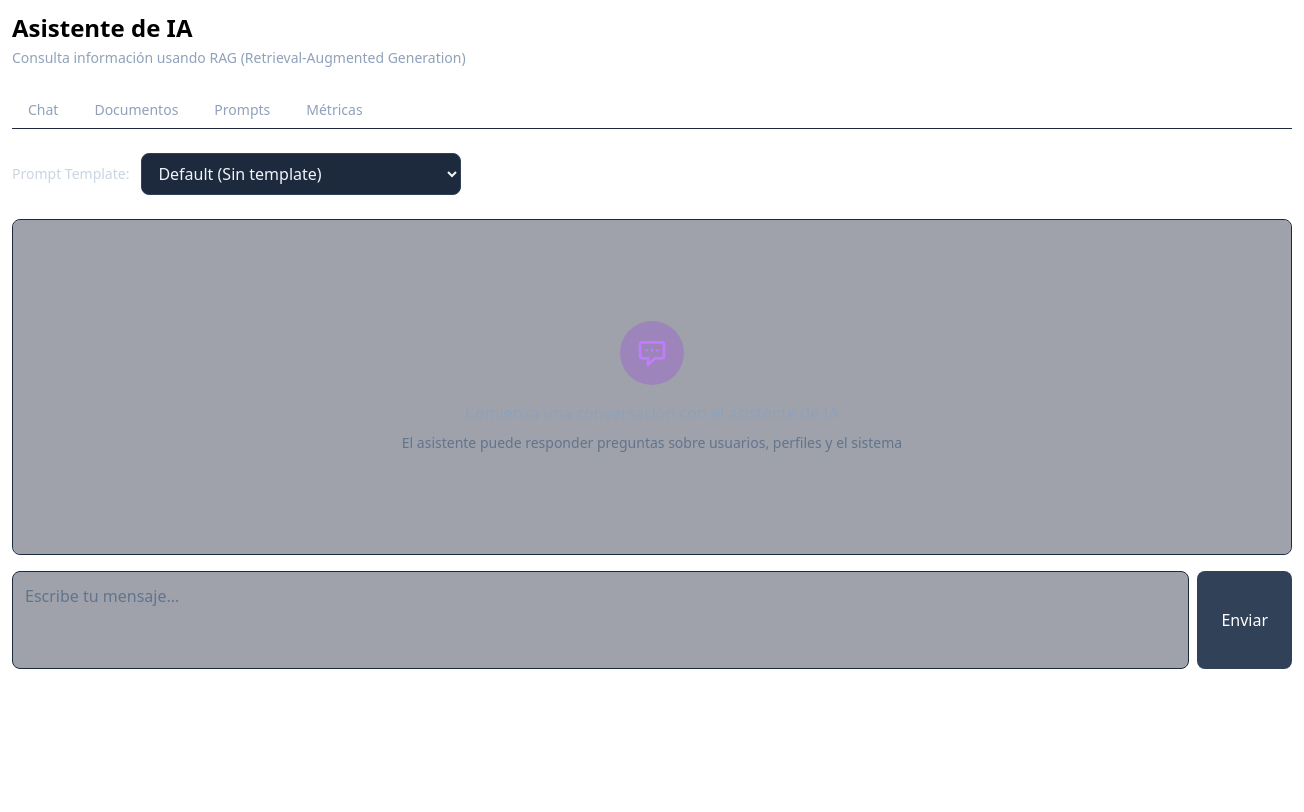
Scenario: AIPage › debe mostrar error cuando falla el envío del mensaje
Type "Test message" into the text box with placeholder "Escribe tu mensaje..." at (601, 620), box [12, 571, 1189, 669]
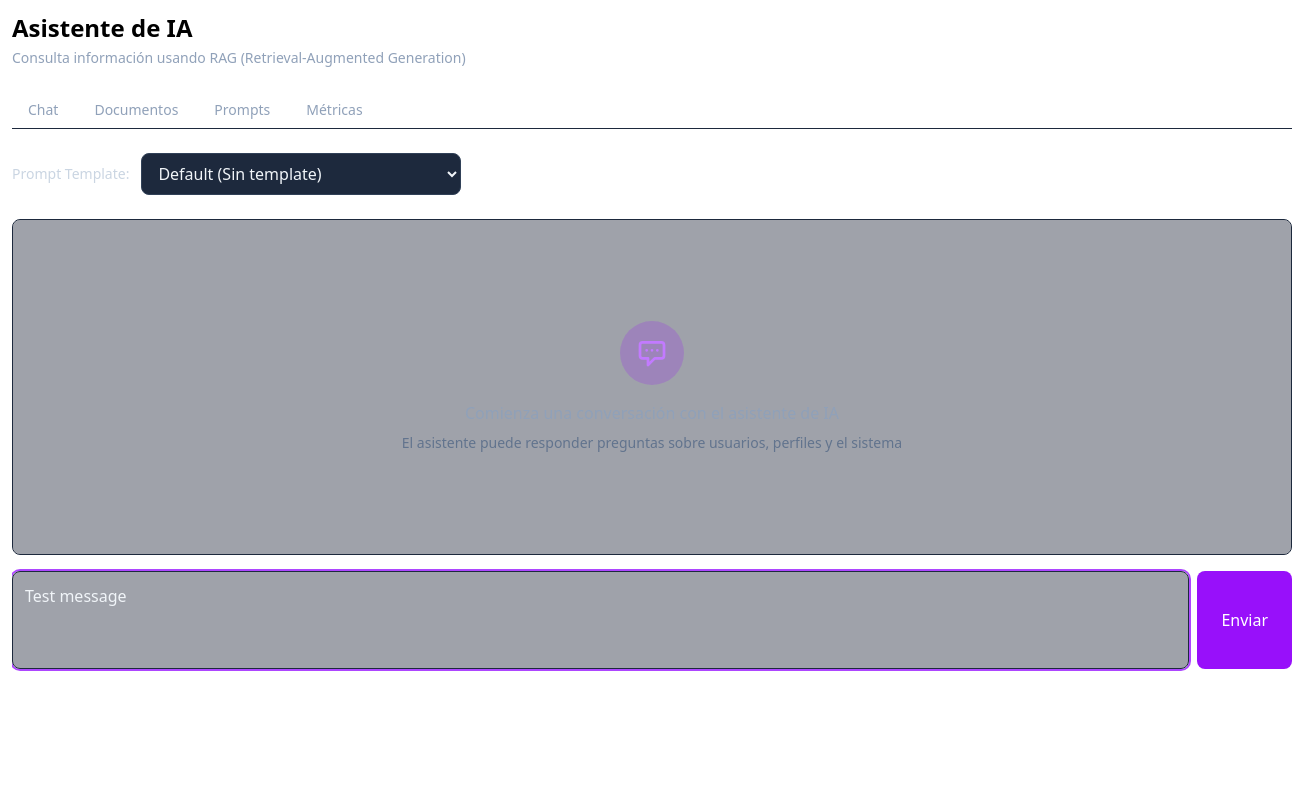
Click the button "Enviar" at (1245, 620), box [1197, 571, 1292, 669]
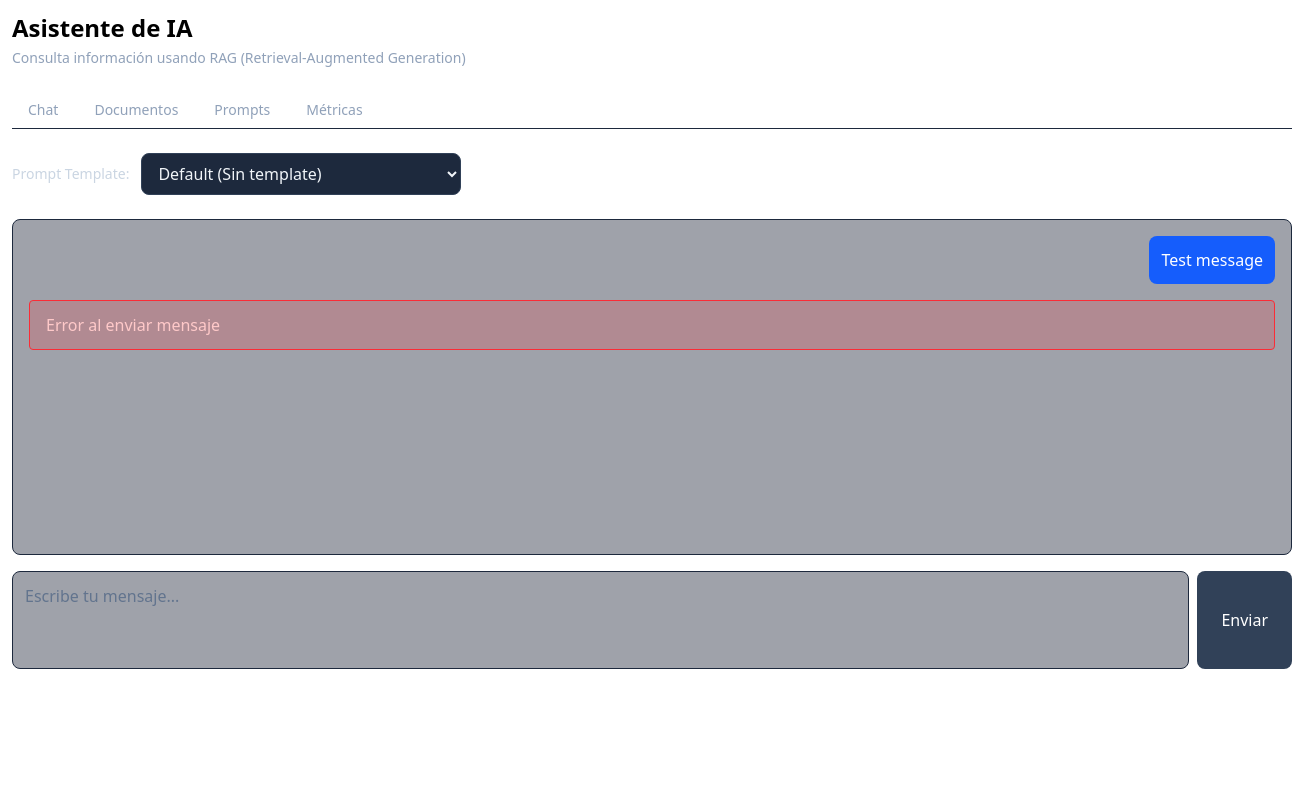
Expected: the text "Error al enviar mensaje" is shown, [29, 300, 1275, 350]
